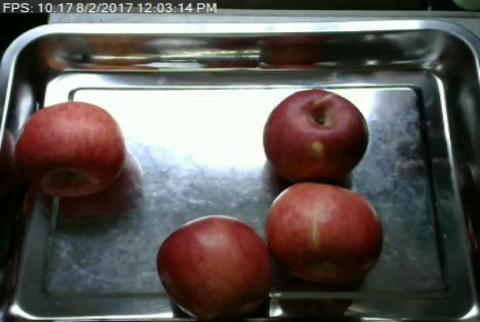apple: (267, 183, 383, 283), (156, 216, 270, 314), (14, 102, 127, 197), (263, 90, 368, 179)
